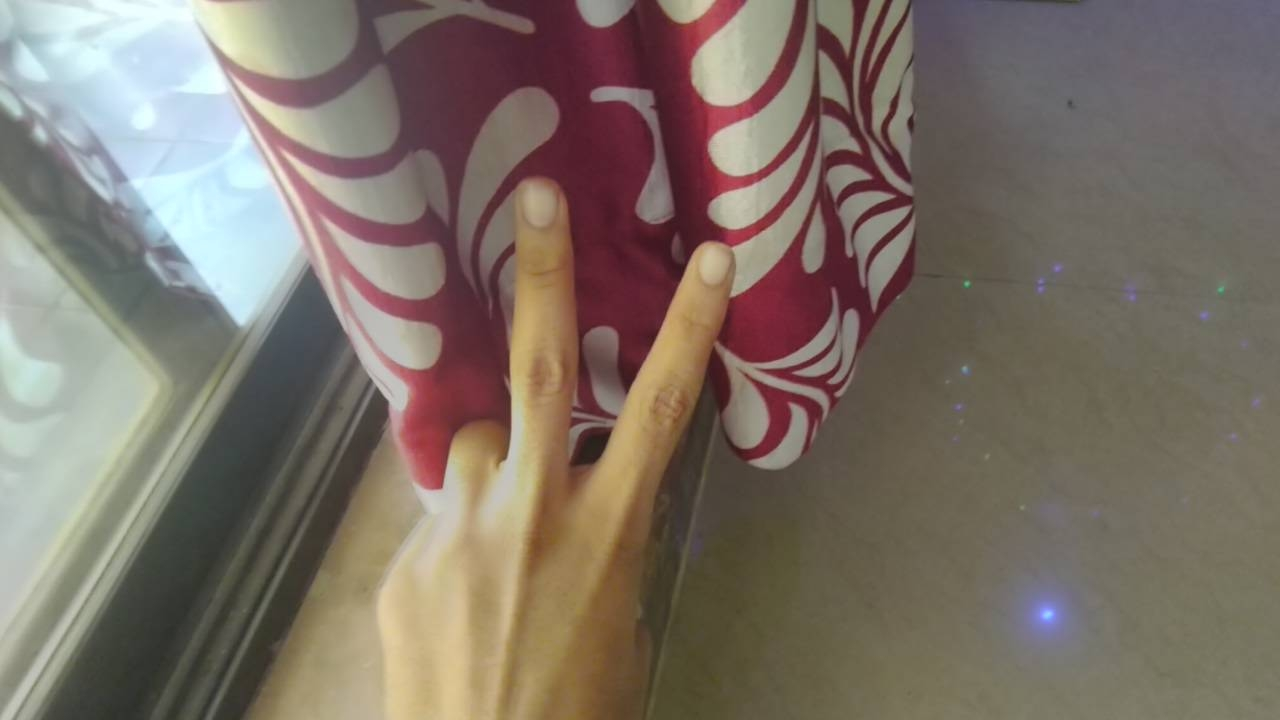fingertip: (676, 234, 744, 304), (506, 172, 570, 244)
